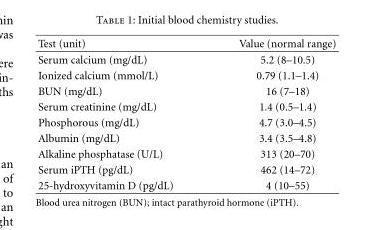table: (37, 37, 335, 191)
table column: (37, 37, 205, 191), (205, 37, 335, 191)
table column header: (37, 37, 335, 51)
table row: (37, 51, 335, 67), (37, 82, 335, 98), (37, 98, 335, 114), (37, 114, 335, 130), (37, 145, 335, 161), (37, 161, 335, 177), (37, 67, 335, 82), (37, 130, 335, 145), (37, 37, 335, 51), (37, 177, 335, 191)
